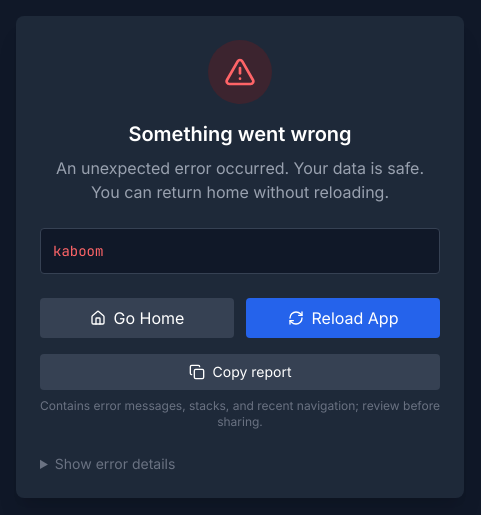
it: ErrorBoundary › sad › keeps Copy report idle when clipboard copy fails
The image size is (481, 515).
Click the button "Copy report": point(240, 372) [40,354,440,390]
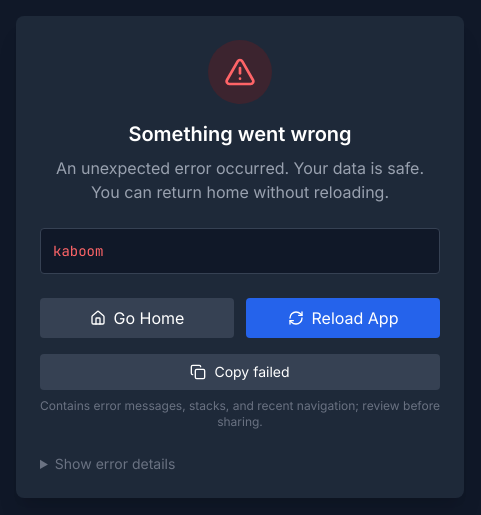
Check: the button "Copy failed" is shown, box [40,354,440,390]
